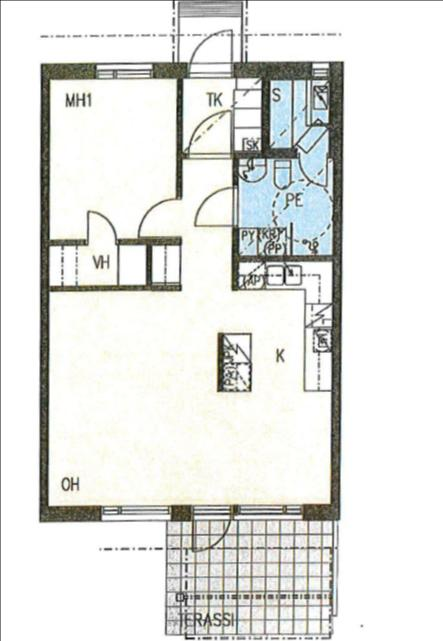door: (185, 28, 235, 78), (186, 107, 233, 158), (192, 184, 241, 230), (189, 506, 234, 552), (135, 197, 183, 239), (83, 210, 120, 248)
window: (95, 501, 174, 524), (230, 502, 310, 522), (88, 62, 158, 80), (306, 58, 336, 83)
